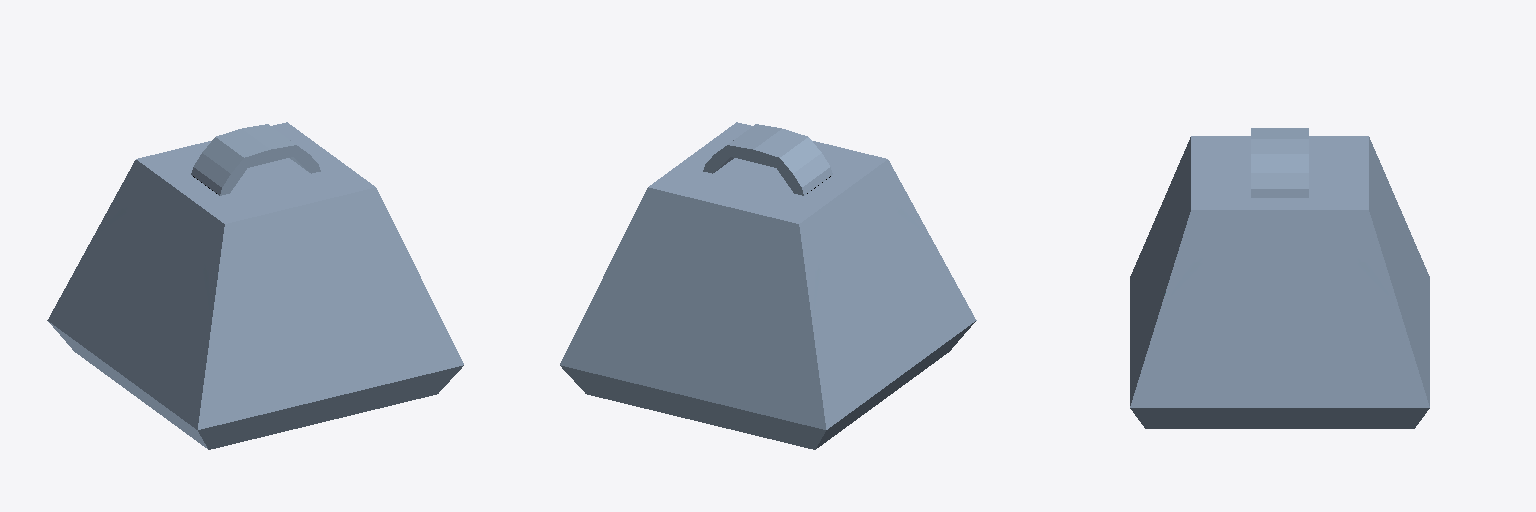
3 views of the same model, side by side, from view 1: azimuth 30°, elevation 25°; view 2: azimuth 150°, elevation 25°; view 3: azimuth 270°, elevation 25° (orthographic).
Parts seen in each view (by area): view 1: Cube; view 2: Cube; view 3: Cube.
Part boxes in pixels (left/top/right/bottom): Cube: left=47, top=122, right=463, bottom=449; Cube: left=560, top=122, right=976, bottom=449; Cube: left=1130, top=128, right=1429, bottom=428.
Bounding box in the file's own units: 1.73 × 1.45 × 1.68.
Materials: 1 (1 with a texture image).